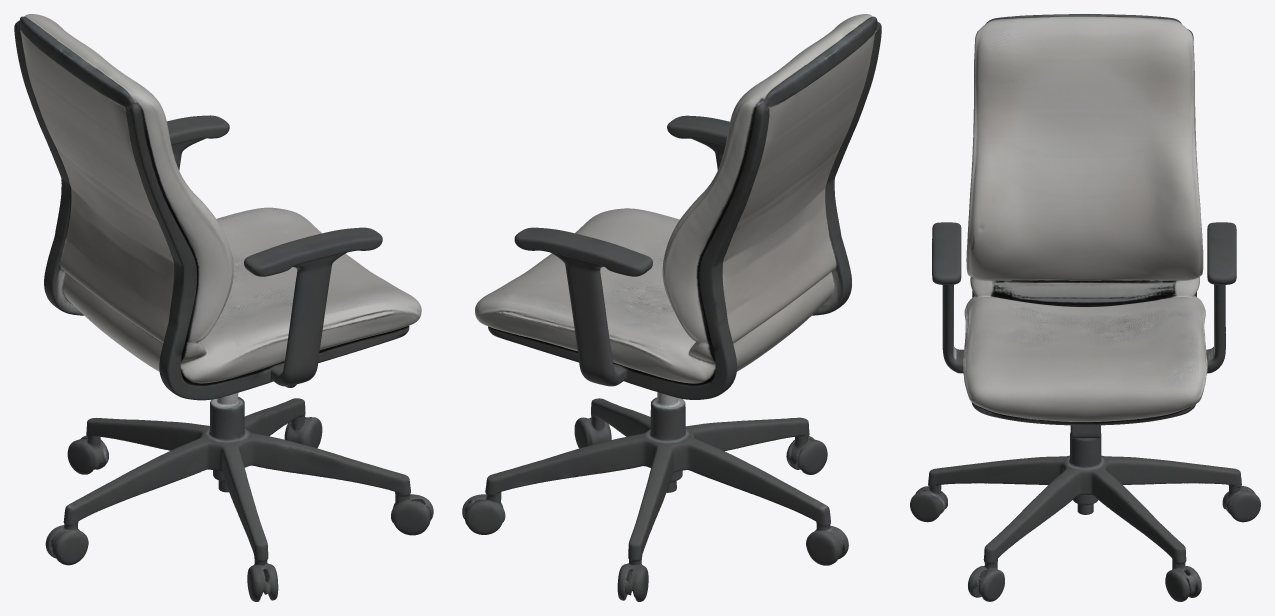
Rendered from modern_office_chair_padded_24.glb.
The picture shows the model from 3 angles, left to right: view 1: azimuth 30°, elevation 25°; view 2: azimuth 150°, elevation 25°; view 3: azimuth 270°, elevation 25°; orthographic projection. The views are drawn at different scales.
Parts seen in each view (by area): view 1: tripo_node_14d7f4b4-9019-4601-9520-d45f93d31d4f; view 2: tripo_node_14d7f4b4-9019-4601-9520-d45f93d31d4f; view 3: tripo_node_14d7f4b4-9019-4601-9520-d45f93d31d4f.
Part boxes in pixels (bbox=[...]): tripo_node_14d7f4b4-9019-4601-9520-d45f93d31d4f: bbox=[14, 14, 433, 601]; tripo_node_14d7f4b4-9019-4601-9520-d45f93d31d4f: bbox=[462, 14, 881, 601]; tripo_node_14d7f4b4-9019-4601-9520-d45f93d31d4f: bbox=[910, 14, 1260, 601].
Bounding box in the file's own units: 0.6679 × 1 × 0.6923.
Materials: 1 (1 with a texture image).
